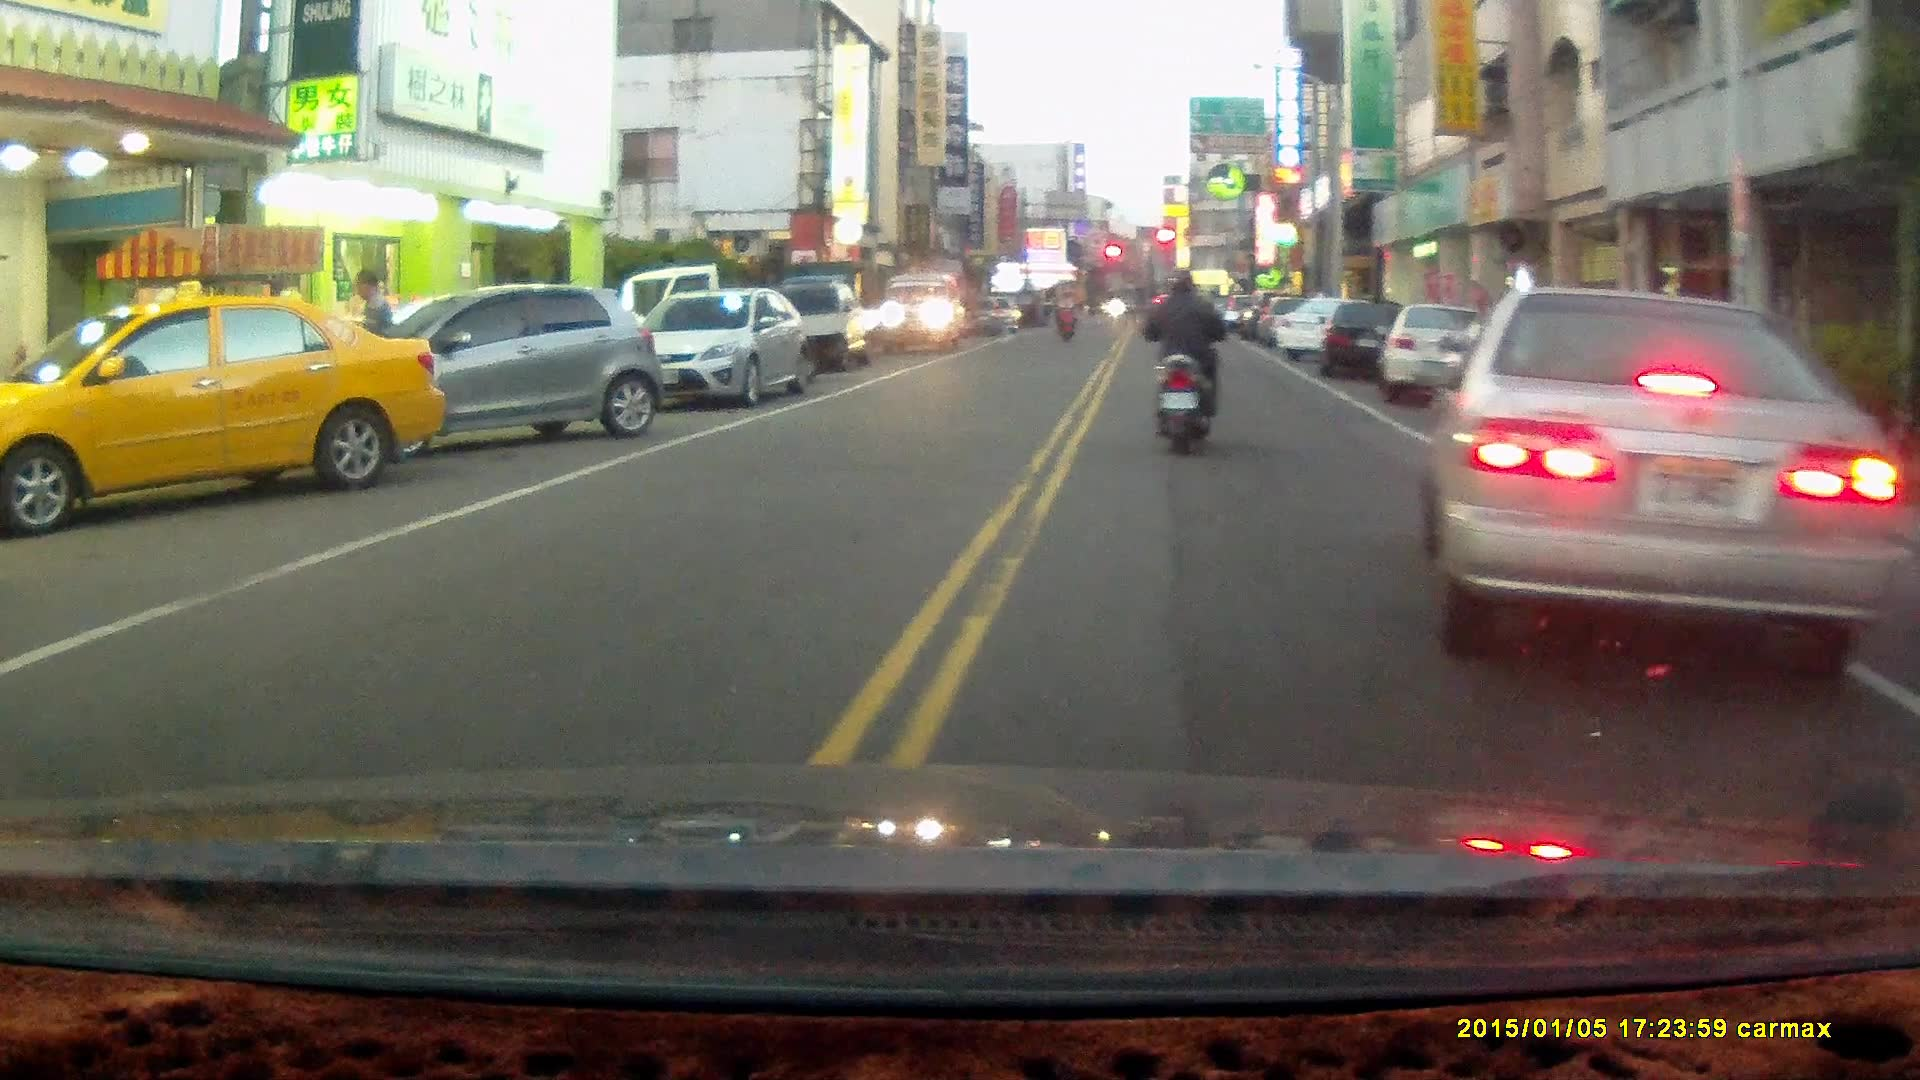pedestrian: (345, 272, 395, 444)
rider: (1133, 267, 1236, 460), (1051, 284, 1080, 343)
vehicle: (1430, 291, 1903, 673), (1, 294, 447, 537), (335, 281, 668, 445), (622, 288, 809, 409), (764, 279, 888, 375), (1387, 302, 1484, 406), (880, 277, 967, 349)
